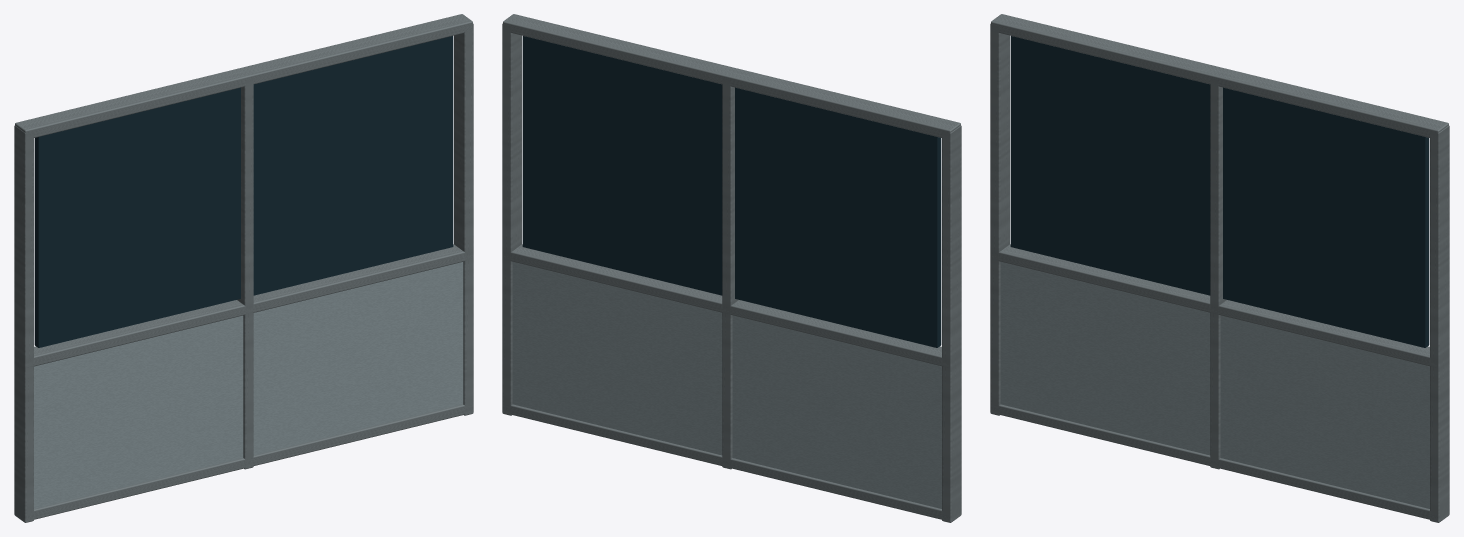
The model's file is partition.9e4750777aa3.glb.
3 renders of one model, left to right at view 1: azimuth 30°, elevation 25°; view 2: azimuth 150°, elevation 25°; view 3: azimuth 330°, elevation 25°, orthographic.
Parts seen in each view (by area): view 1: glazing_0002, lower_panel_0001, crossbar_0008, mullion_0003, crossbar_0007, mullion_0005, crossbar_0006, mullion_0004; view 2: glazing_0002, lower_panel_0001, crossbar_0008, mullion_0003, crossbar_0007, mullion_0005, crossbar_0006, mullion_0004; view 3: glazing_0002, lower_panel_0001, crossbar_0008, mullion_0005, crossbar_0007, mullion_0003, crossbar_0006, mullion_0004.
Part boxes in pixels (x1,y1,x2,y2): glazing_0002: (34,36,453,347); lower_panel_0001: (34,262,463,508); crossbar_0008: (15,14,472,138); mullion_0003: (14,125,33,522); crossbar_0007: (26,244,471,367); mullion_0005: (454,23,473,415); crossbar_0006: (26,404,472,520); mullion_0004: (237,78,253,469); glazing_0002: (522,36,941,347); lower_panel_0001: (512,262,941,508); crossbar_0008: (503,14,960,137); mullion_0003: (942,125,961,522); crossbar_0007: (508,244,948,367); mullion_0005: (502,23,521,415); crossbar_0006: (503,404,949,520); mullion_0004: (722,78,738,469); glazing_0002: (1010,36,1429,347); lower_panel_0001: (1000,262,1429,508); crossbar_0008: (991,14,1448,137); mullion_0005: (1430,125,1449,522); crossbar_0007: (996,244,1436,367); mullion_0003: (990,23,1009,415); crossbar_0006: (991,404,1437,520); mullion_0004: (1210,78,1226,469).
Bounding box in the file's own units: 3.06 × 2.56 × 0.13.
3 materials, 2 textured.
